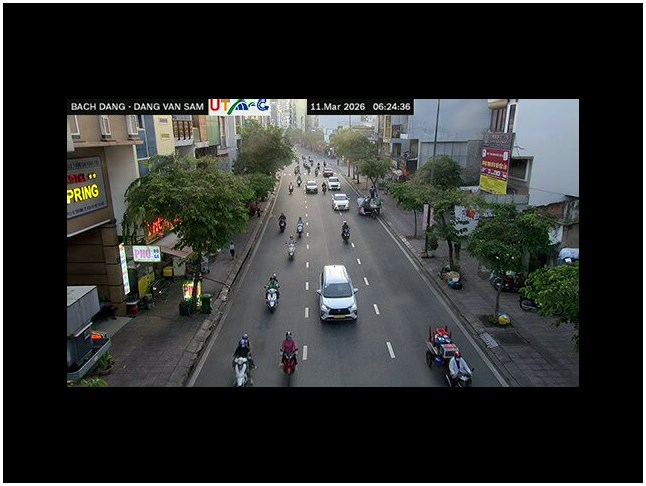car: (317, 263, 359, 322), (332, 193, 349, 212), (558, 248, 578, 264), (446, 271, 463, 289), (305, 181, 319, 194), (328, 177, 340, 192)
